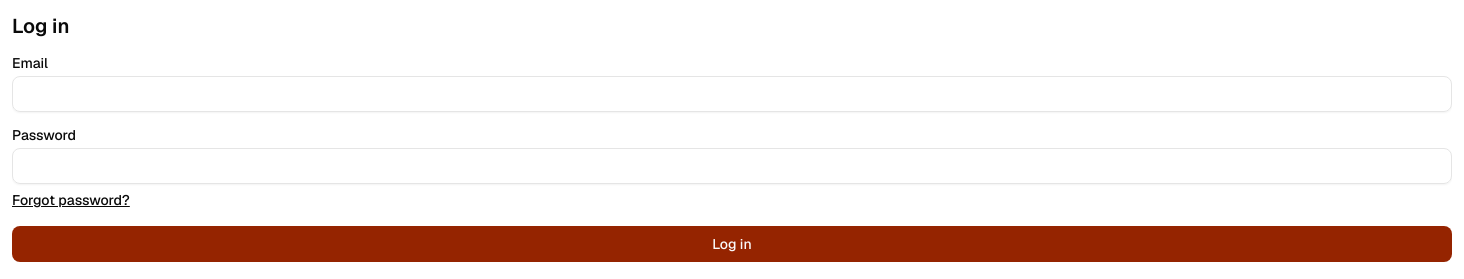
Test: LoginForm › swaps to the verify-your-email state with a resend control on email_not_confirmed
Type "unverified@example.com" into the field labelled "Email" at (732, 94), box [12,76,1452,112]
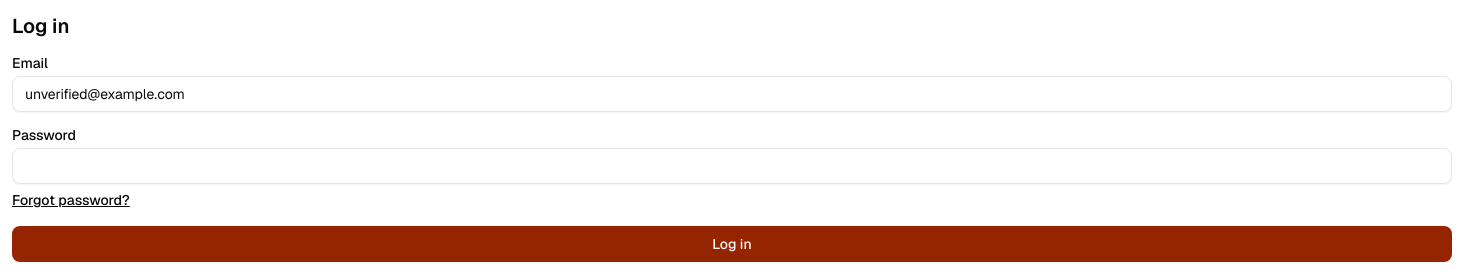
Type "abcd1234" into the password field labelled "Password" at (732, 166), box [12,148,1452,184]
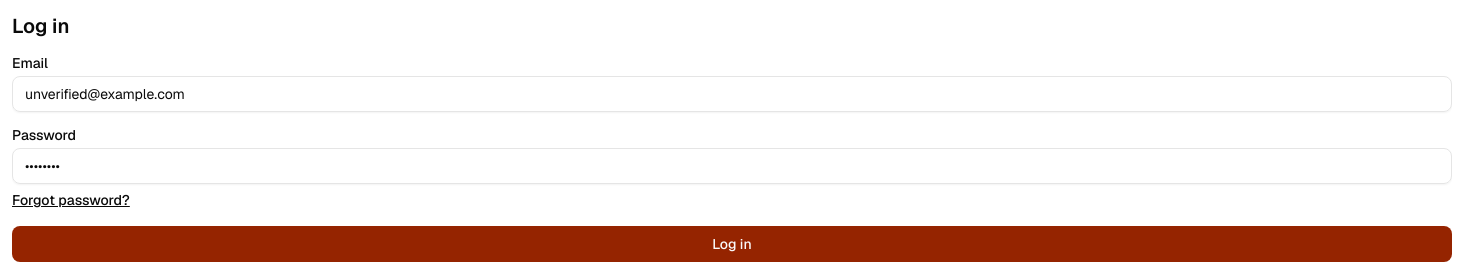
Click the button "Log in" at (732, 244), box [12,226,1452,262]
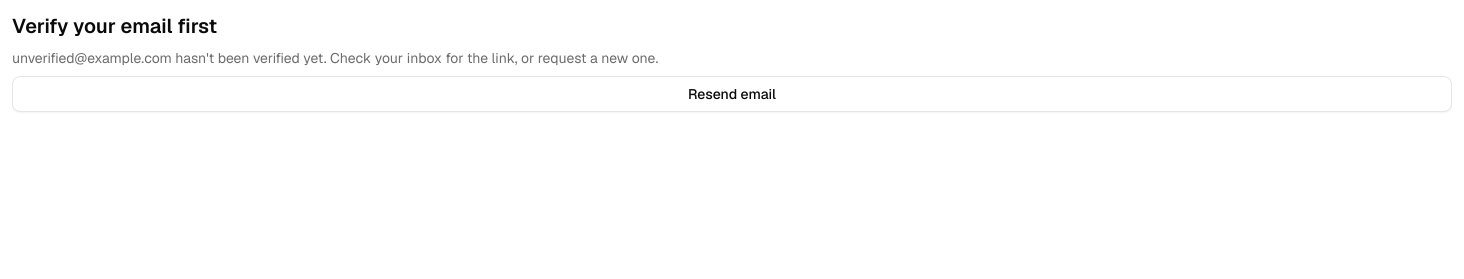
Expected: the button "Resend email" is enabled, [12,76,1452,112]
Result: the heading "Verify your email first" is shown at [12,13,217,39]
